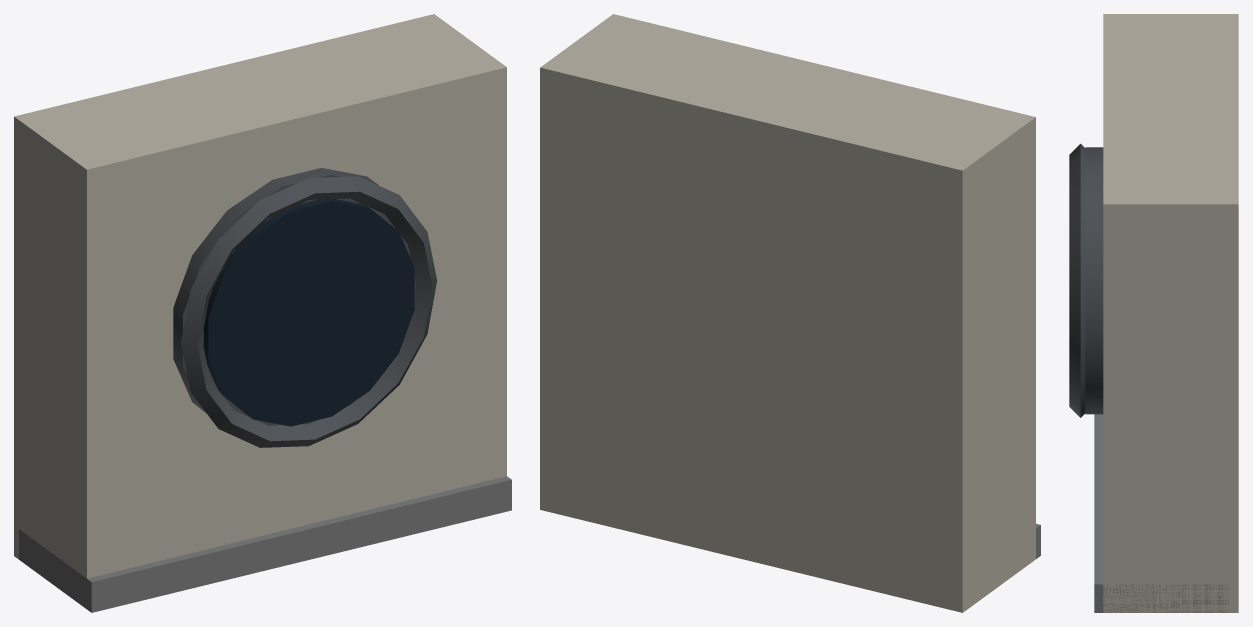
Rendered from rebel_wall_port.glb.
3 views of the same model, side by side, from view 1: azimuth 30°, elevation 25°; view 2: azimuth 150°, elevation 25°; view 3: azimuth 270°, elevation 25° (orthographic). The views are drawn at different scales.
Parts seen in each view (by area): view 1: rebel_wall_port; view 2: rebel_wall_port; view 3: rebel_wall_port.
Part boxes in pixels (bbox=[...]): rebel_wall_port: bbox=[14, 14, 511, 612]; rebel_wall_port: bbox=[540, 14, 1040, 612]; rebel_wall_port: bbox=[1069, 14, 1238, 612].
Bounding box in the file's own units: 1 × 1 × 0.375.
